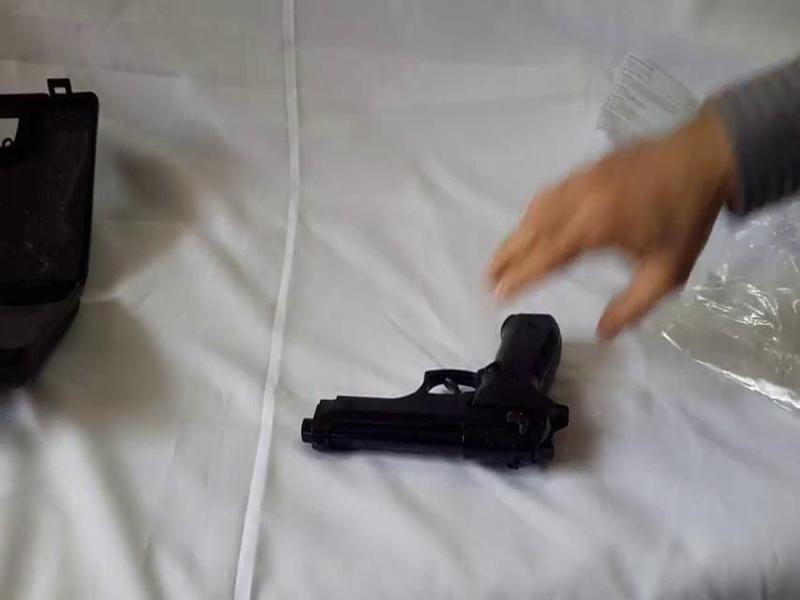Pistola: (284, 307, 594, 486)
